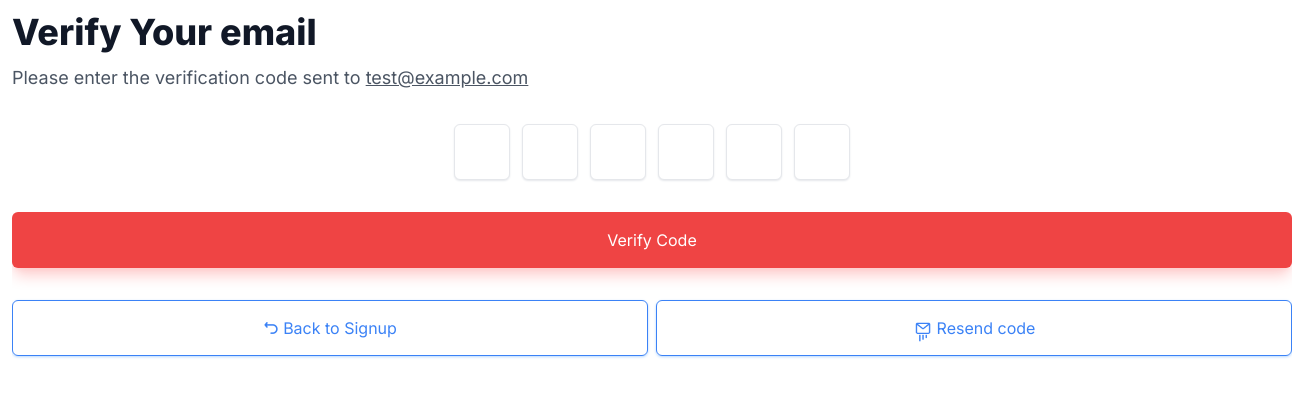
Test: <VerifyCodeForm /> › 9. Resend code button has correct endpoint
The image size is (1304, 415).
Click the button with test id "ResendCodeButton" at point(974, 328), box [656,300,1292,356]
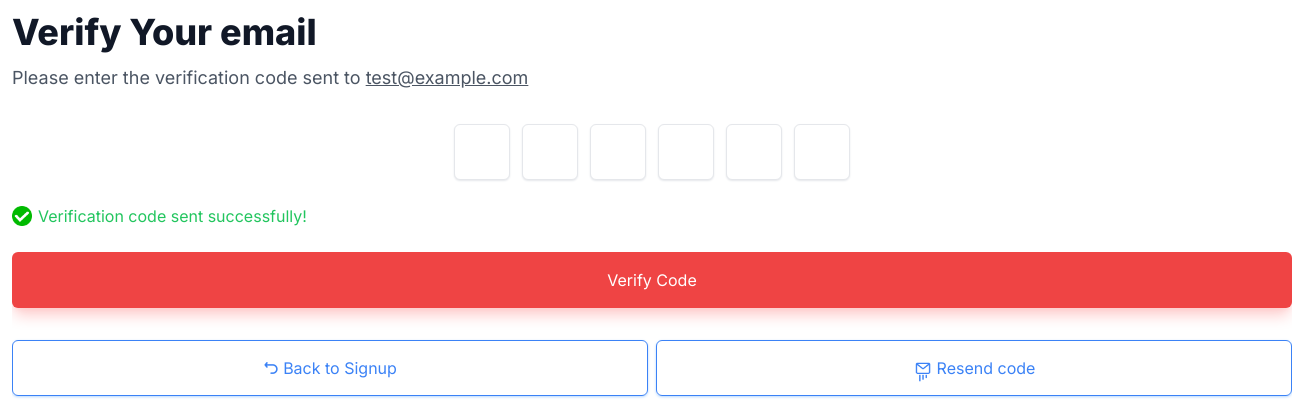
Expected: the text with test id "FeedbackMessageComponent.SuccessMessage" reads "Verification code sent successfully!", [38,206,307,226]
